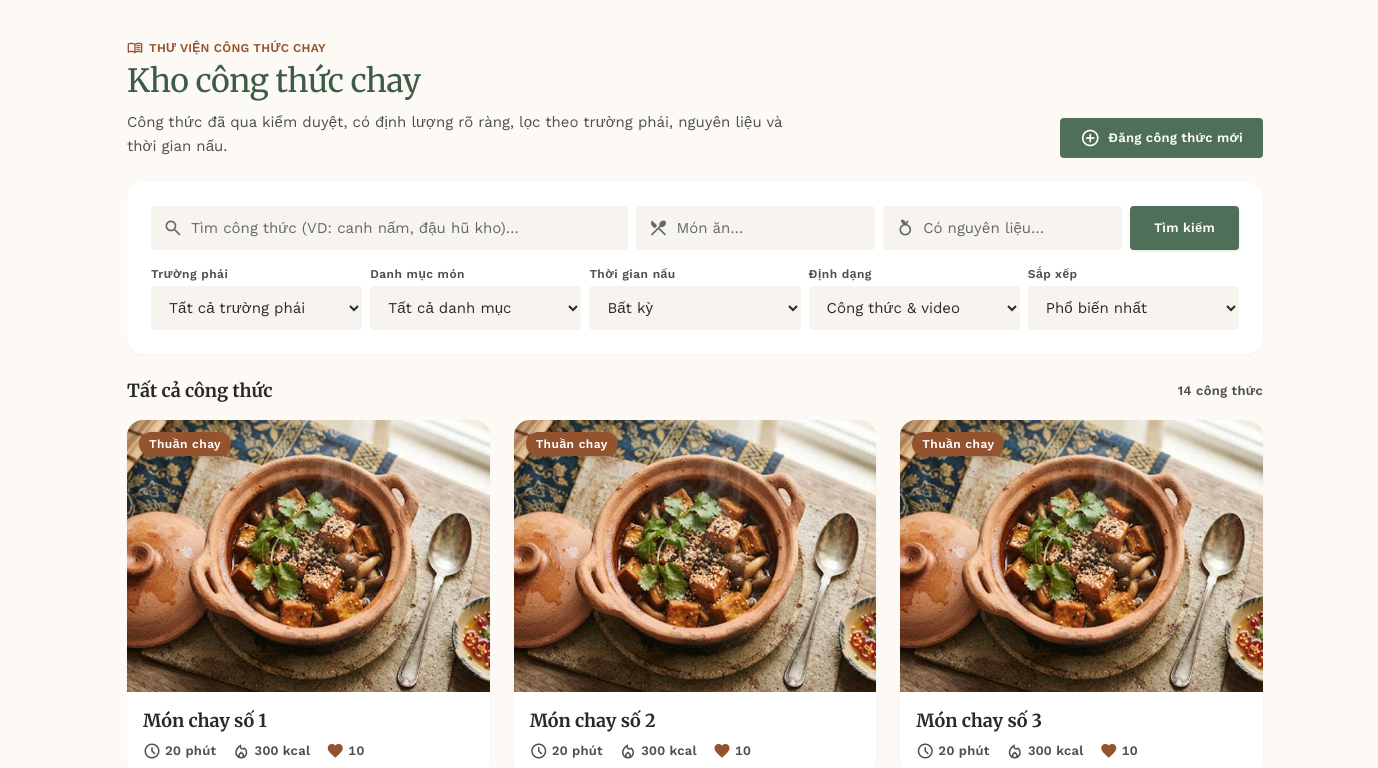
RecipeList (SCR-11) › chọn món trong ô lọc thì lọc ngay theo món đó
Check: the link "Món chay số 1" is shown, box left=143, top=709, right=267, bottom=732
Type "cháo" into the dropdown named "Lọc theo món ăn".
click(756, 228); type("cháo")  # box left=636, top=206, right=875, bottom=250
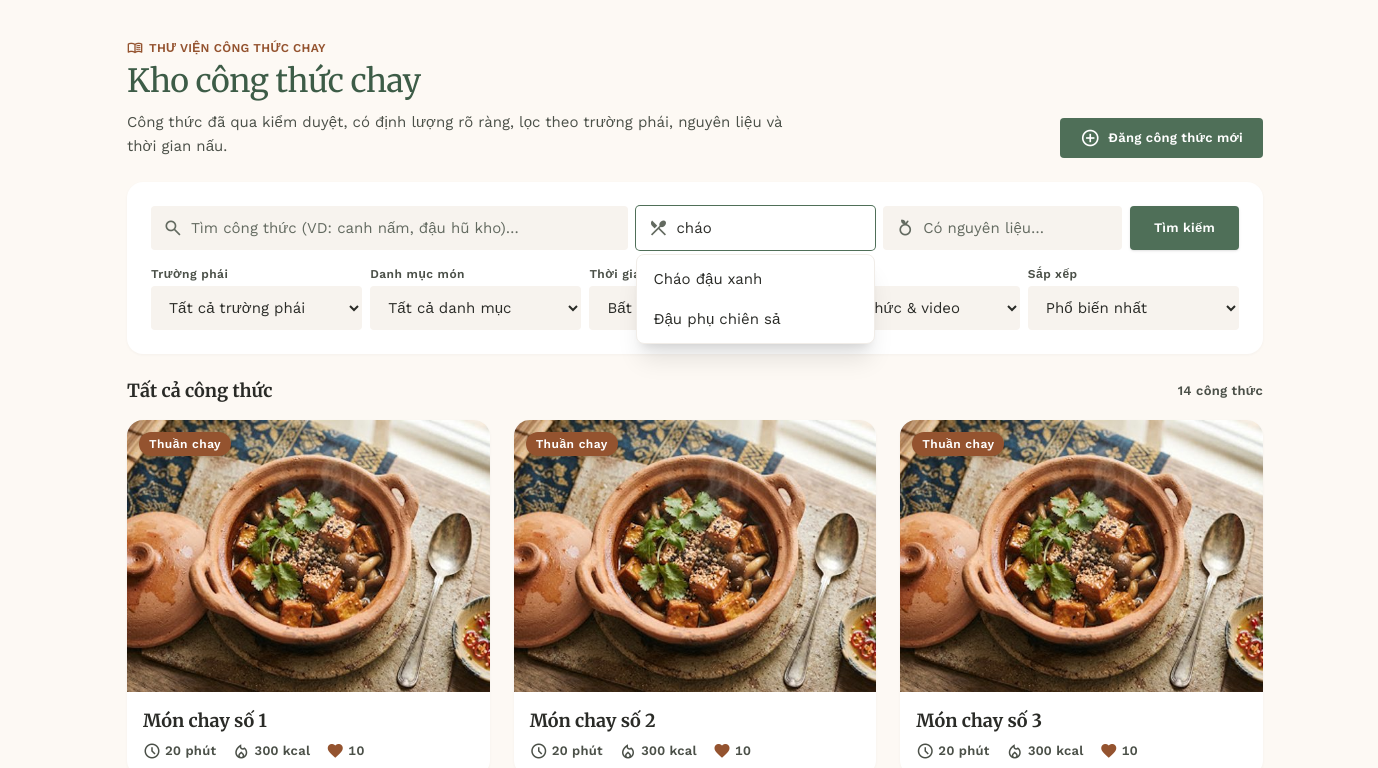
Click the option "Cháo đậu xanh".
click(708, 279)  # box left=654, top=270, right=762, bottom=288
(page scrolled)
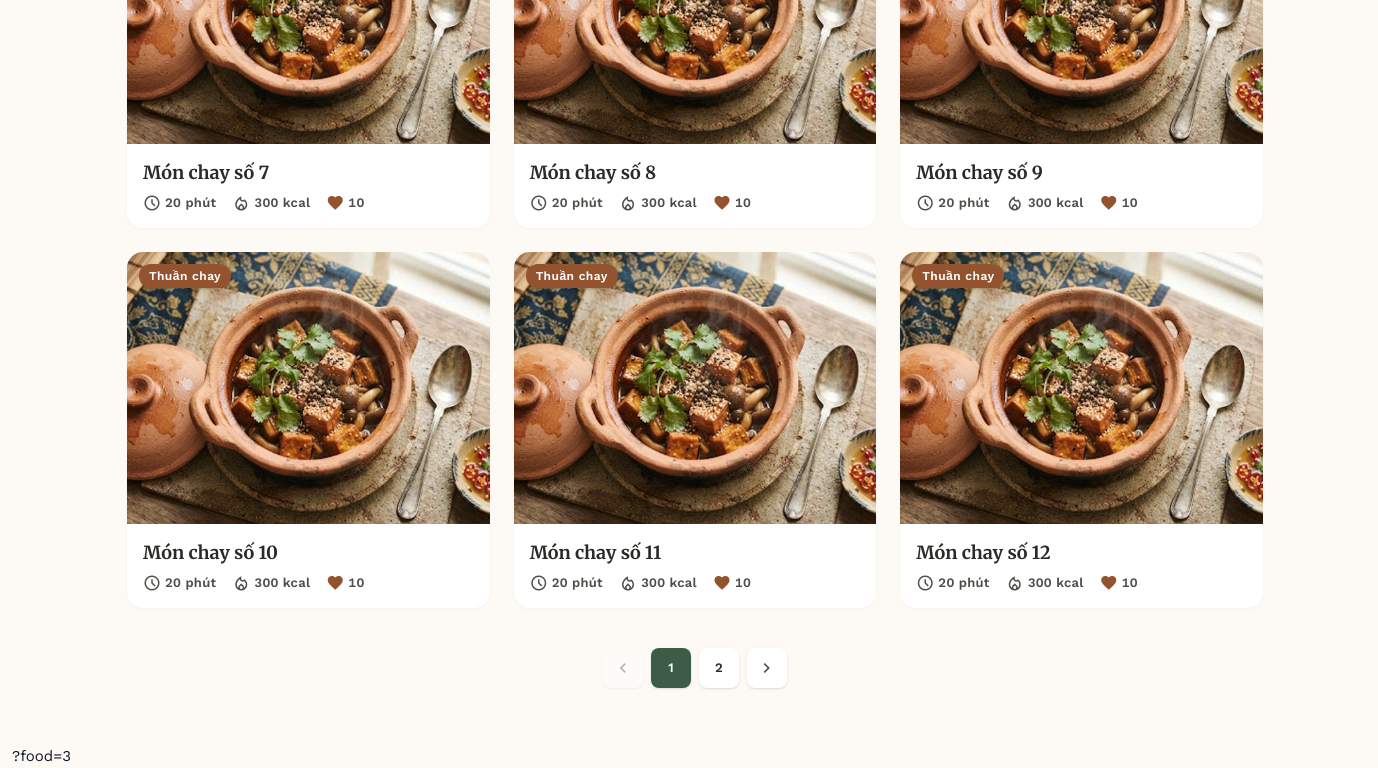
Check: the text with test id "location" reads "?food=3", box left=12, top=747, right=71, bottom=765
